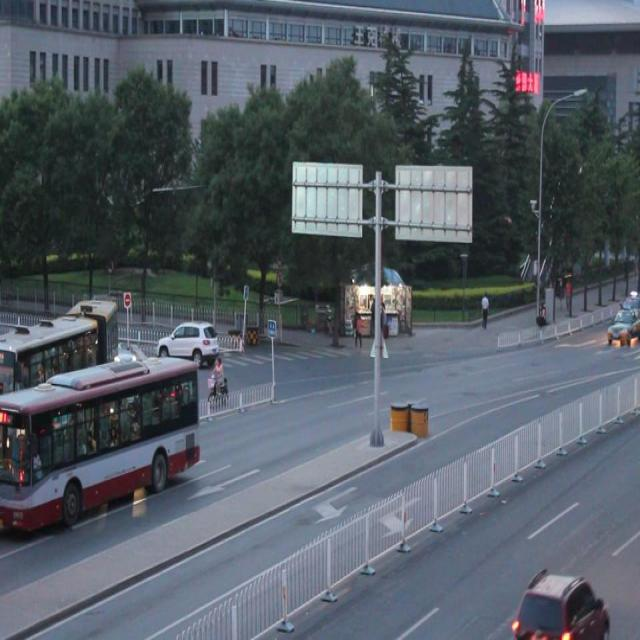car: (510, 570, 607, 640), (162, 309, 223, 359), (121, 332, 167, 387)
van: (1, 358, 202, 537), (1, 301, 120, 404)
